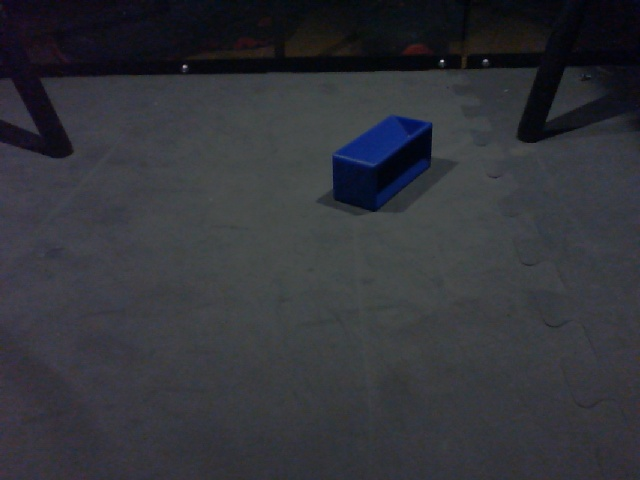BlueSample: (327, 112, 435, 213)
